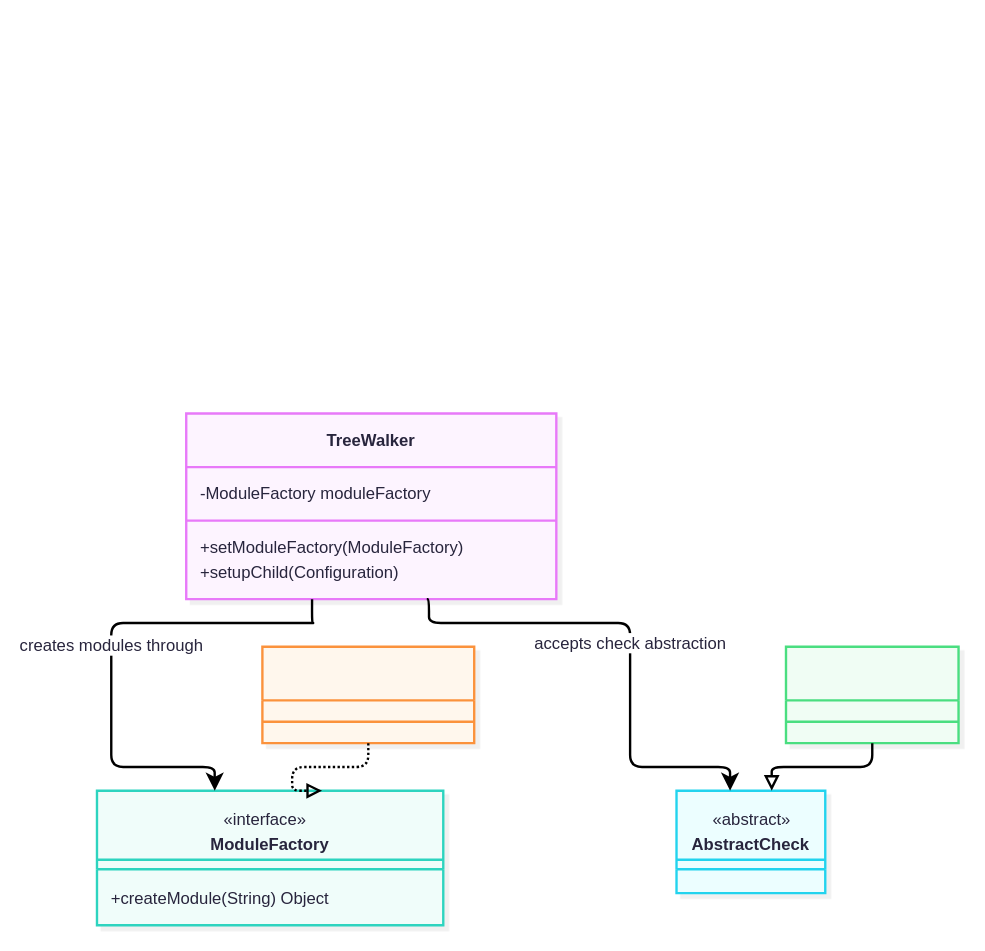
Some shapes in this 985 by 951 pixel diagram are drawn without their labels. The centre of each missing label's shape, as x and y in pixels:
"NeedBracesCheck" belongs at (x=874, y=697).
"PackageObjectFactory" belongs at (x=370, y=697).
